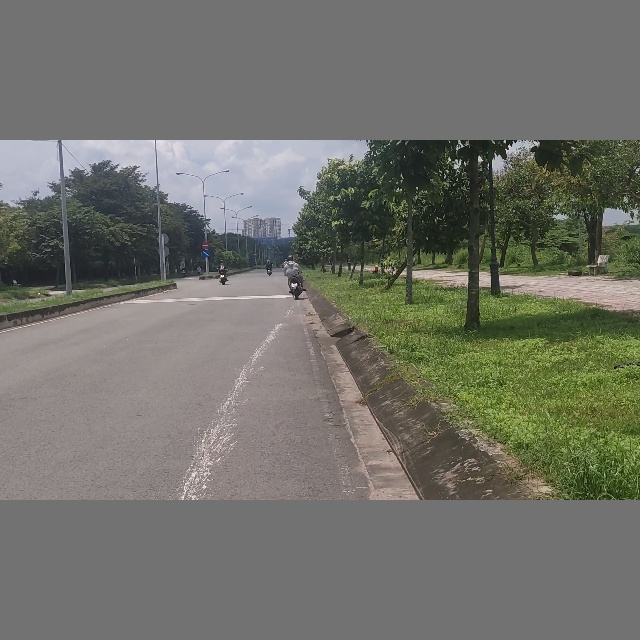P.102: (201, 242, 210, 249)
R.302a: (202, 250, 210, 258)
